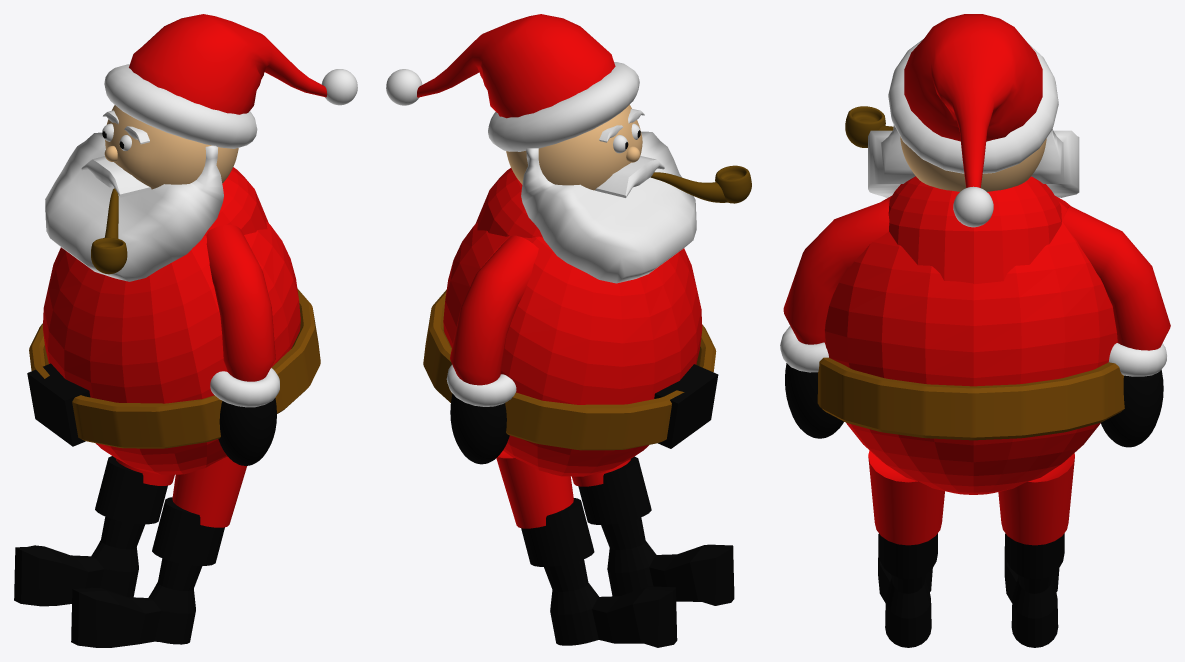
File: SantaClausLowP.fbx
3 renders of one model, left to right at view 1: azimuth 30°, elevation 25°; view 2: azimuth 150°, elevation 25°; view 3: azimuth 270°, elevation 25°, orthographic. The views are drawn at different scales.
Parts seen in each view (by area): view 1: pSphere2, pCube1, pCylinder2, pCylinder6, pCylinder5, pPipe1, pCylinder8, pTorus1, pSphere3, pCylinder7, pSphere10, pCube3 (+5 smaller); view 2: pSphere2, pCube1, pCylinder2, pCylinder5, pCylinder6, pPipe1, pCylinder9, pTorus1, pSphere3, pCylinder4, pSphere11, pCube3 (+5 smaller); view 3: pSphere2, pPipe1, pCylinder2, pSphere5, pCylinder9, pCylinder8, pTorus1, pCylinder5, pCylinder6, pCube1, pCylinder7, pCylinder4 (+7 smaller).
Boxes of the visible parts, box(x1,y1,x2,y2) form: pSphere2: box(43, 221, 300, 474); pCube1: box(45, 132, 223, 281); pCylinder2: box(129, 14, 327, 114); pCylinder6: box(71, 497, 224, 647); pCylinder5: box(14, 456, 167, 606); pPipe1: box(29, 288, 320, 448); pCylinder8: box(206, 224, 275, 381); pTorus1: box(104, 64, 257, 148); pSphere3: box(105, 105, 238, 189); pCylinder7: box(172, 457, 246, 527); pSphere10: box(218, 398, 276, 465); pCube3: box(27, 363, 90, 446); pSphere2: box(443, 222, 702, 476); pCube1: box(521, 131, 696, 283); pCylinder2: box(417, 14, 615, 118); pCylinder5: box(521, 498, 677, 647); pCylinder6: box(578, 456, 734, 605); pPipe1: box(423, 290, 716, 450); pCylinder9: box(450, 235, 538, 385); pTorus1: box(488, 62, 639, 151); pSphere3: box(506, 104, 642, 190); pCylinder4: box(496, 451, 573, 528); pSphere11: box(450, 393, 509, 464); pCube3: box(654, 364, 718, 448); pSphere2: box(824, 196, 1117, 494); pPipe1: box(817, 357, 1124, 440); pCylinder2: box(904, 14, 1042, 187); pSphere5: box(888, 176, 1061, 284); pCylinder9: box(1062, 205, 1170, 350); pCylinder8: box(783, 199, 889, 344); pTorus1: box(888, 39, 1058, 173); pCylinder5: box(1004, 533, 1064, 647); pCylinder6: box(878, 533, 937, 647); pCube1: box(868, 124, 1079, 198); pCylinder7: box(868, 450, 944, 545); pCylinder4: box(998, 453, 1074, 545).
Size of the model in its own units: 2.14 by 3.84 by 2.09.
